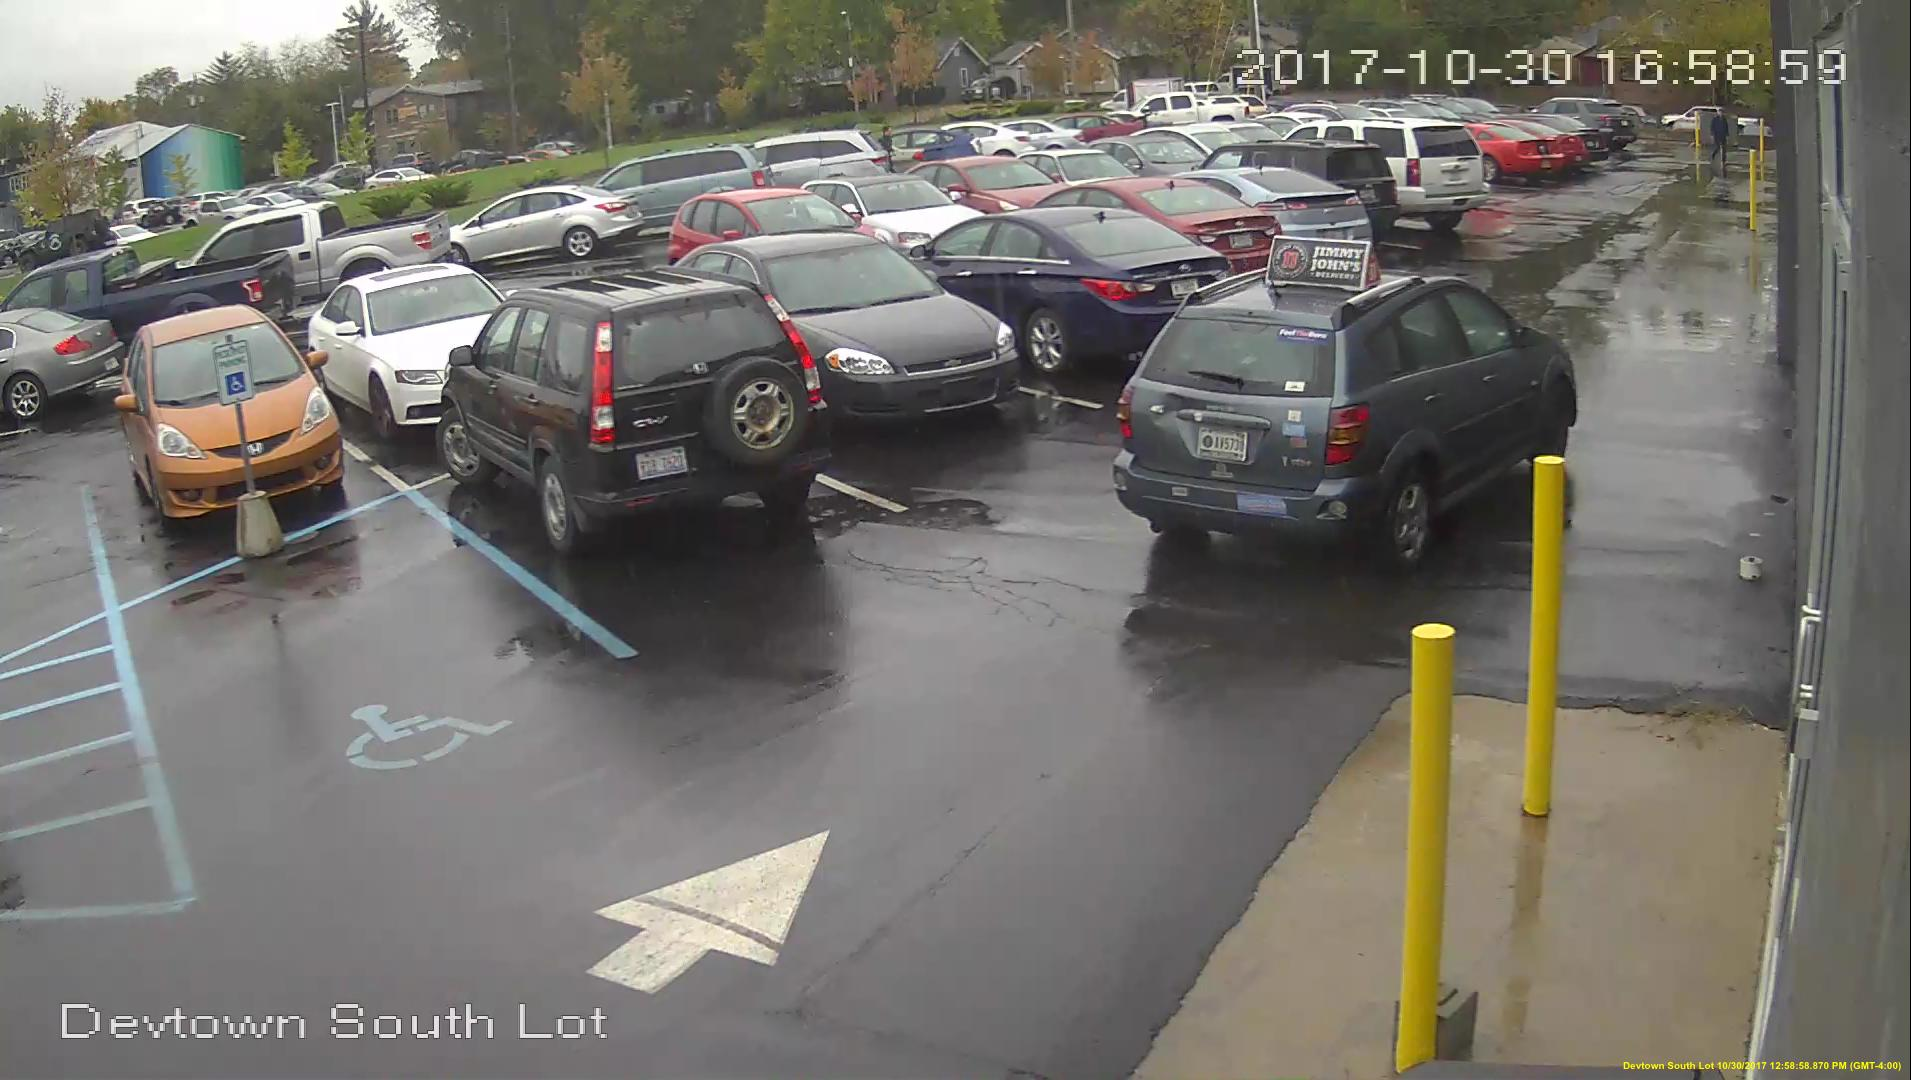jimmy_johns: (1270, 226, 1377, 293)
